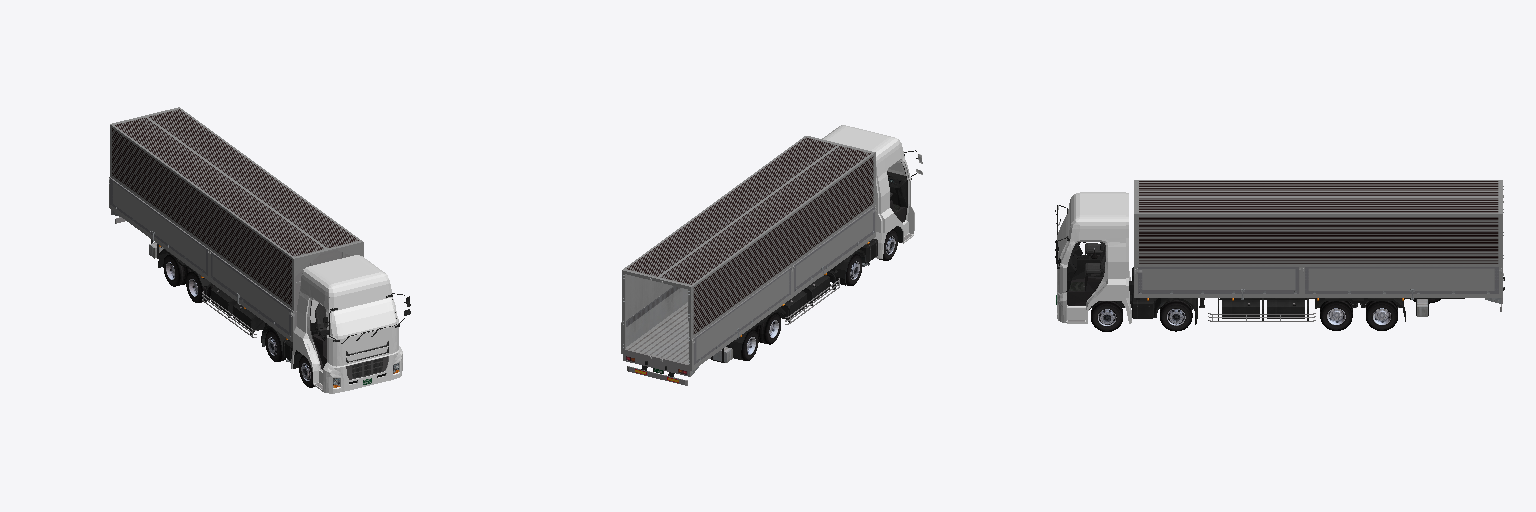
The picture shows the model from 3 angles: view 1: azimuth 30°, elevation 25°; view 2: azimuth 150°, elevation 25°; view 3: azimuth 270°, elevation 25°; orthographic projection.
Visible parts, largest first — view 1: body_01; view 2: body_01; view 3: body_01.
Part boxes in pixels (x1,y1,x2,y2): body_01: (109, 107, 410, 393); body_01: (621, 125, 922, 385); body_01: (1055, 180, 1504, 331).
Bounding box in the file's own units: 2.78 × 3.48 × 12.06.
Materials: 8 (1 with a texture image).